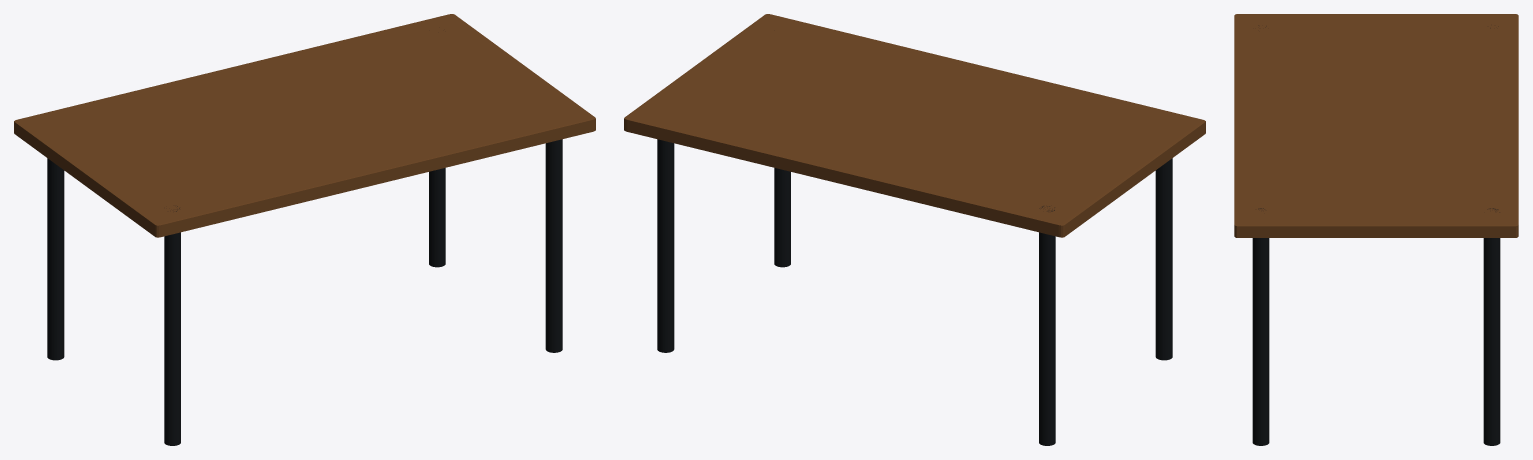
The model's file is table_dining.glb.
The picture shows the model from 3 angles, left to right: view 1: azimuth 30°, elevation 25°; view 2: azimuth 150°, elevation 25°; view 3: azimuth 270°, elevation 25°; orthographic projection.
Visible parts, largest first — view 1: Cube, Cylinder.002, Cylinder, Cylinder.001, Cylinder.003; view 2: Cube, Cylinder.003, Cylinder.001, Cylinder, Cylinder.002; view 3: Cube, Cylinder.003, Cylinder.002.
Part boxes in pixels (x1=…): Cube: x1=14, y1=14, x2=595, y2=237; Cylinder.002: x1=545, y1=139, x2=562, y2=352; Cylinder: x1=164, y1=206, x2=180, y2=445; Cylinder.001: x1=47, y1=158, x2=64, y2=360; Cylinder.003: x1=429, y1=168, x2=445, y2=267; Cube: x1=624, y1=14, x2=1205, y2=237; Cylinder.003: x1=657, y1=139, x2=674, y2=352; Cylinder.001: x1=1039, y1=206, x2=1055, y2=445; Cylinder: x1=1155, y1=158, x2=1172, y2=360; Cylinder.002: x1=774, y1=168, x2=790, y2=267; Cube: x1=1234, y1=14, x2=1518, y2=237; Cylinder.003: x1=1483, y1=208, x2=1500, y2=445; Cylinder.002: x1=1252, y1=208, x2=1269, y2=445.
Bounding box in the file's own units: 1.5 × 0.76 × 0.85.
